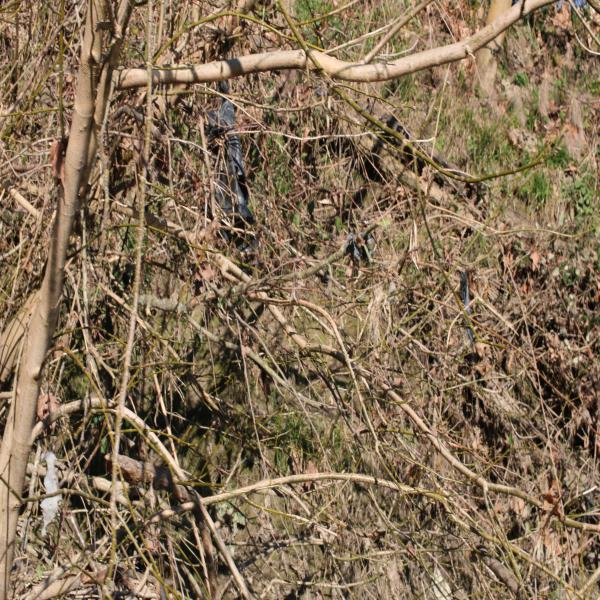fragments: (205, 98, 253, 253), (42, 452, 59, 531), (343, 230, 374, 264), (462, 275, 473, 350)
